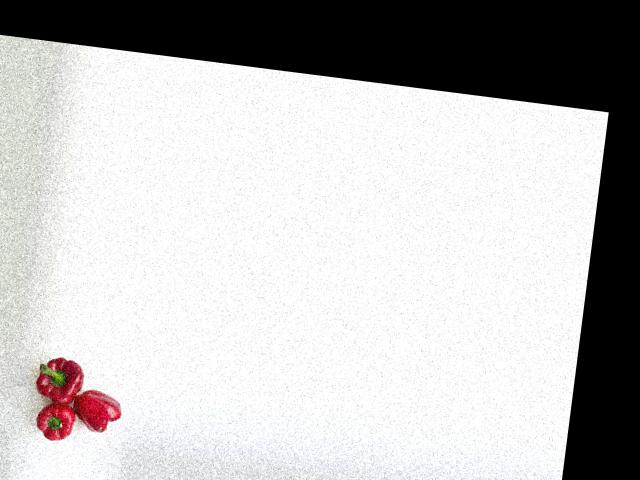bell_pepper: (68, 383, 130, 443)
